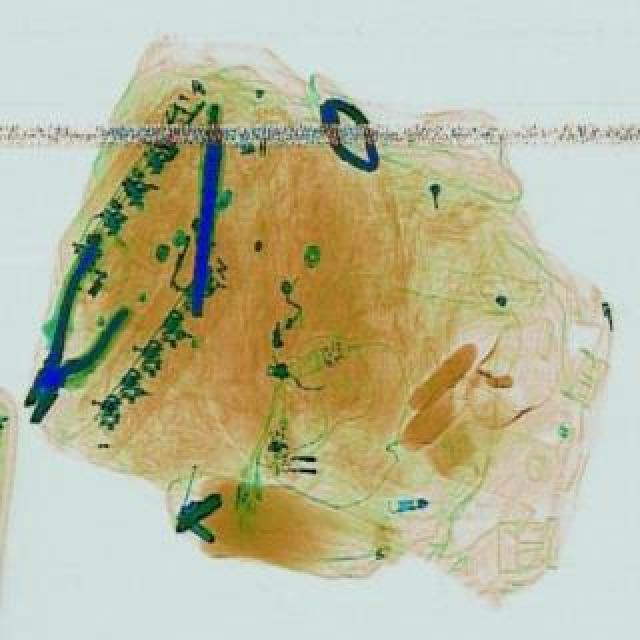wrench: (0, 248, 140, 424)
